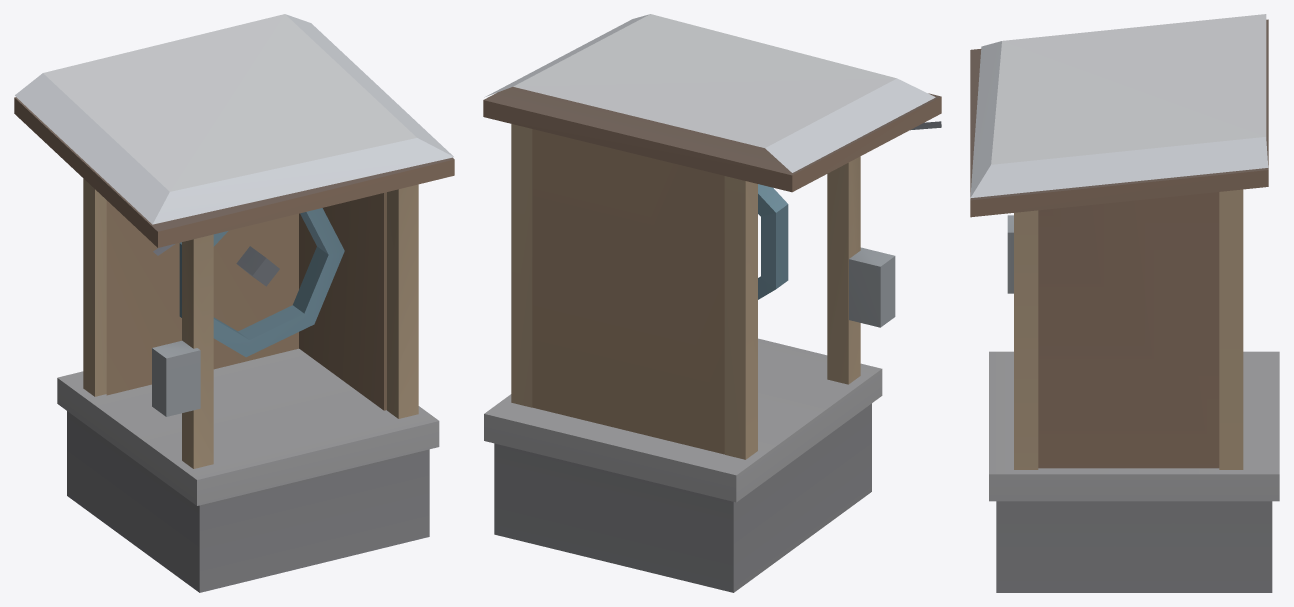
Rendered from tow.lod2.glb.
3 renders of one model, left to right at view 1: azimuth 30°, elevation 25°; view 2: azimuth 150°, elevation 25°; view 3: azimuth 270°, elevation 25°, orthographic. The views are drawn at different scales.
Size of the model in its own units: 1.93 by 2.65 by 1.66.
